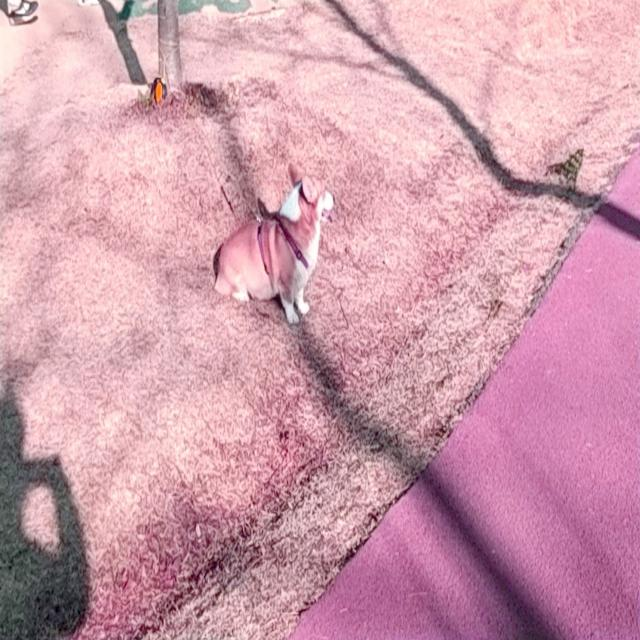Dog: (214, 163, 335, 324)
